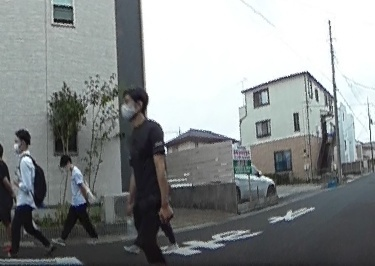person: (118, 84, 181, 266), (8, 127, 49, 254), (55, 152, 97, 242)
